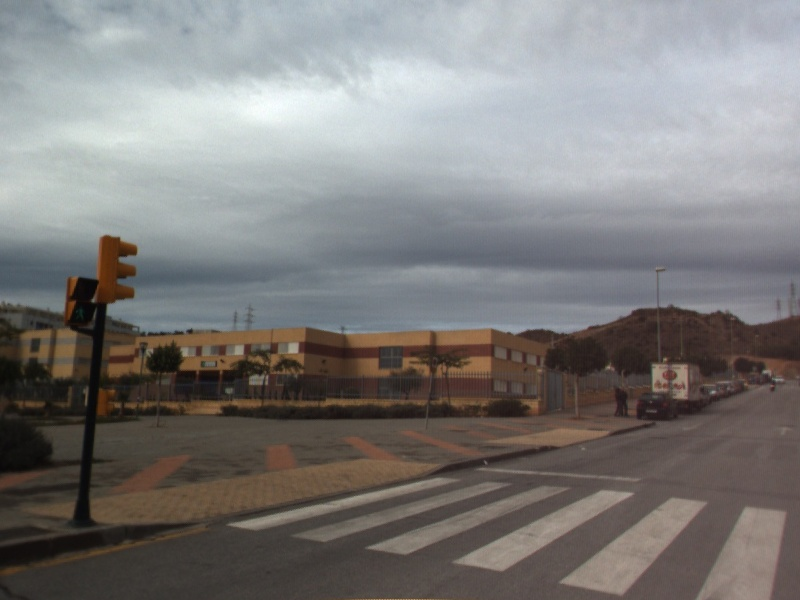STRAIGHT: (776, 424, 795, 437)
